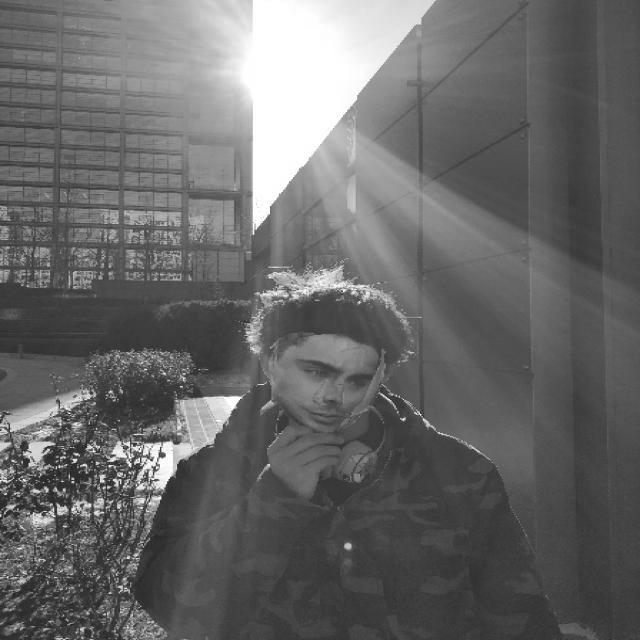fake: (258, 312, 406, 446)
